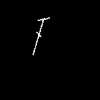double_crochet: (33, 18, 47, 54)
